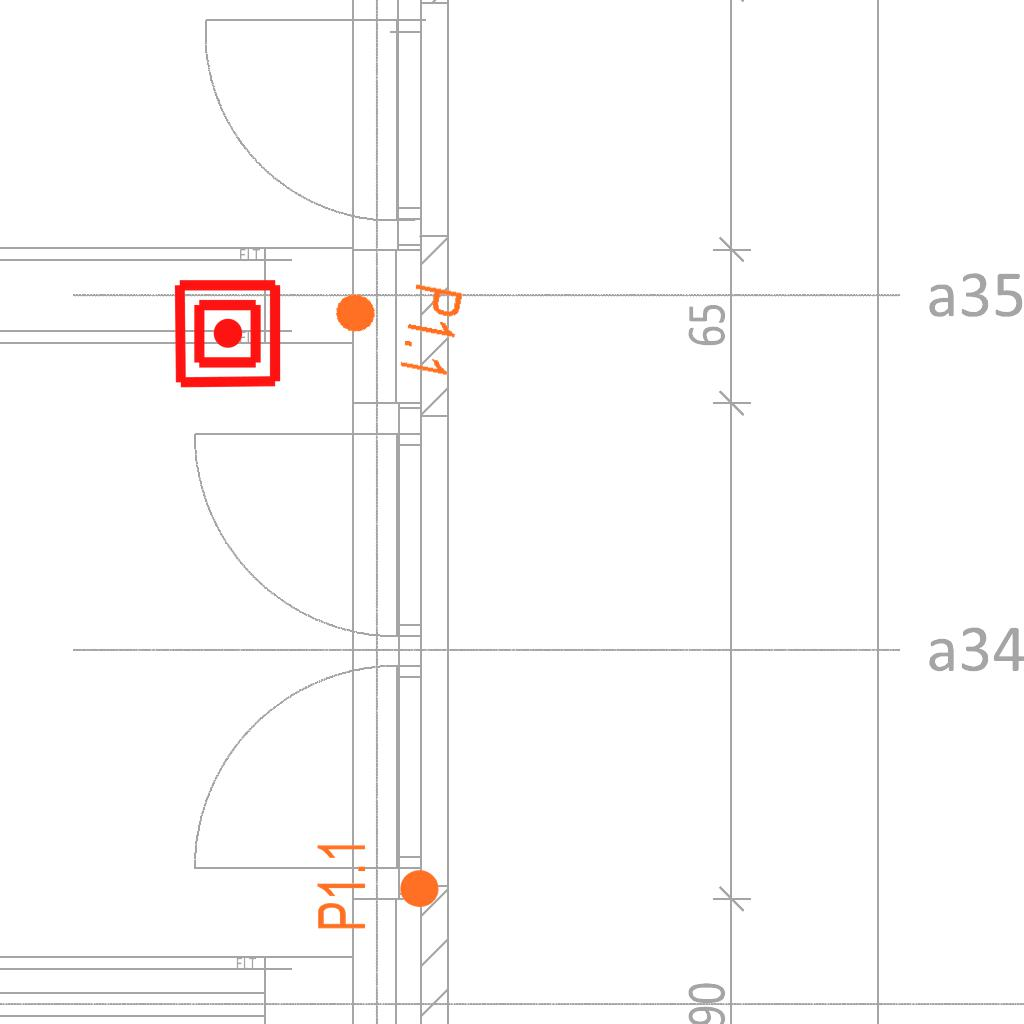Downlight_LED_Einbauleuchten_Flur: (323, 266, 468, 382), (314, 839, 442, 932)
NAM-Nichtautomatischer_Melder: (171, 277, 284, 390)
